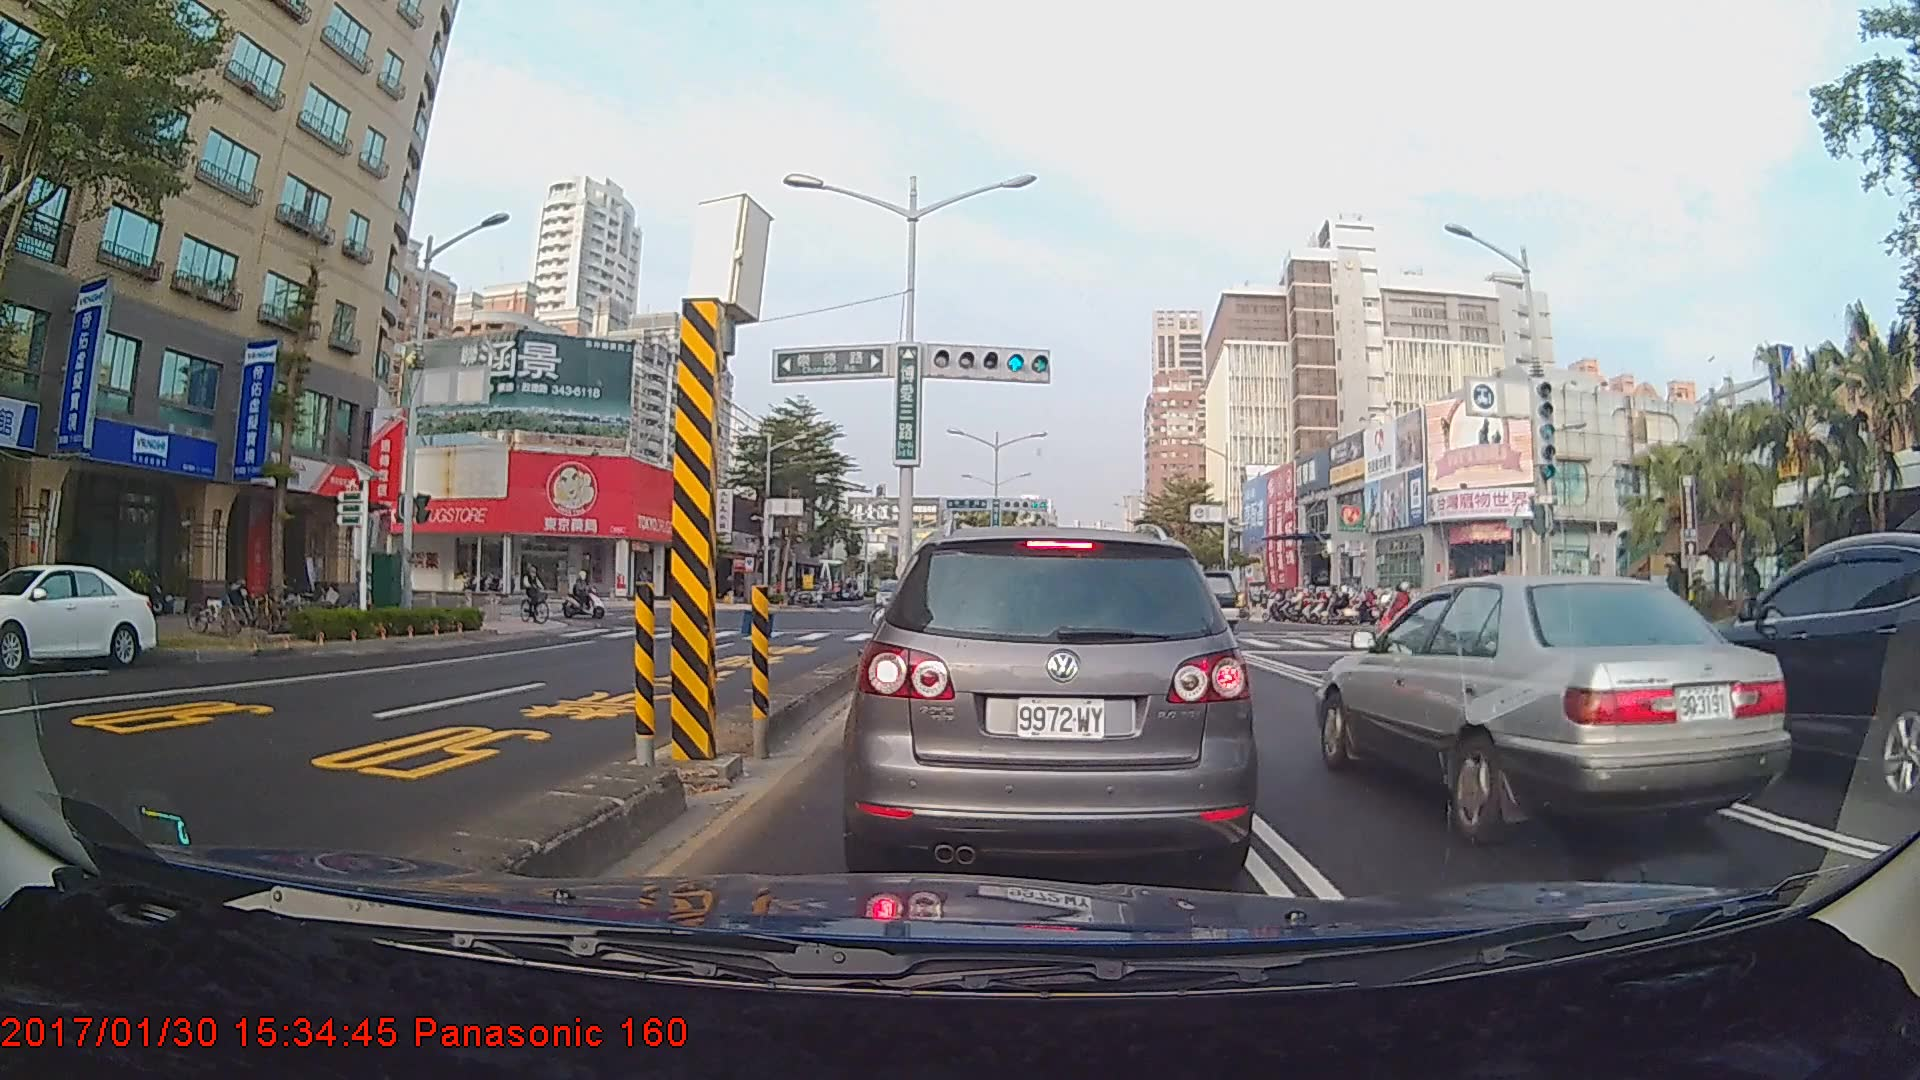rider: (518, 559, 561, 629), (564, 568, 615, 625), (1382, 582, 1421, 648)
vehicle: (853, 523, 1248, 882), (1311, 568, 1792, 845), (1676, 527, 1920, 800), (0, 561, 161, 671), (1160, 567, 1241, 636)
